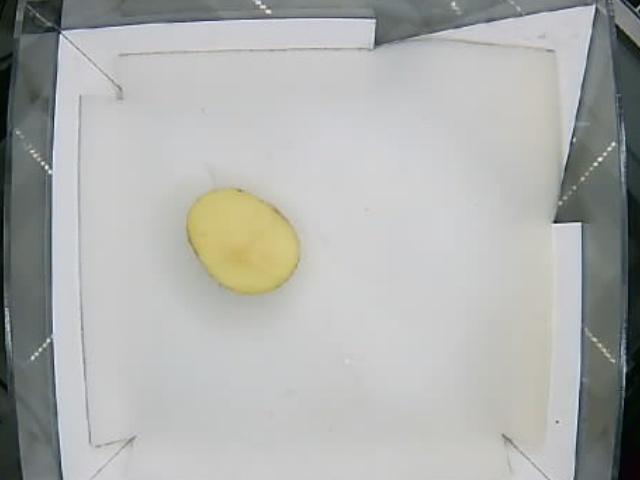Potato: (183, 183, 301, 297)
